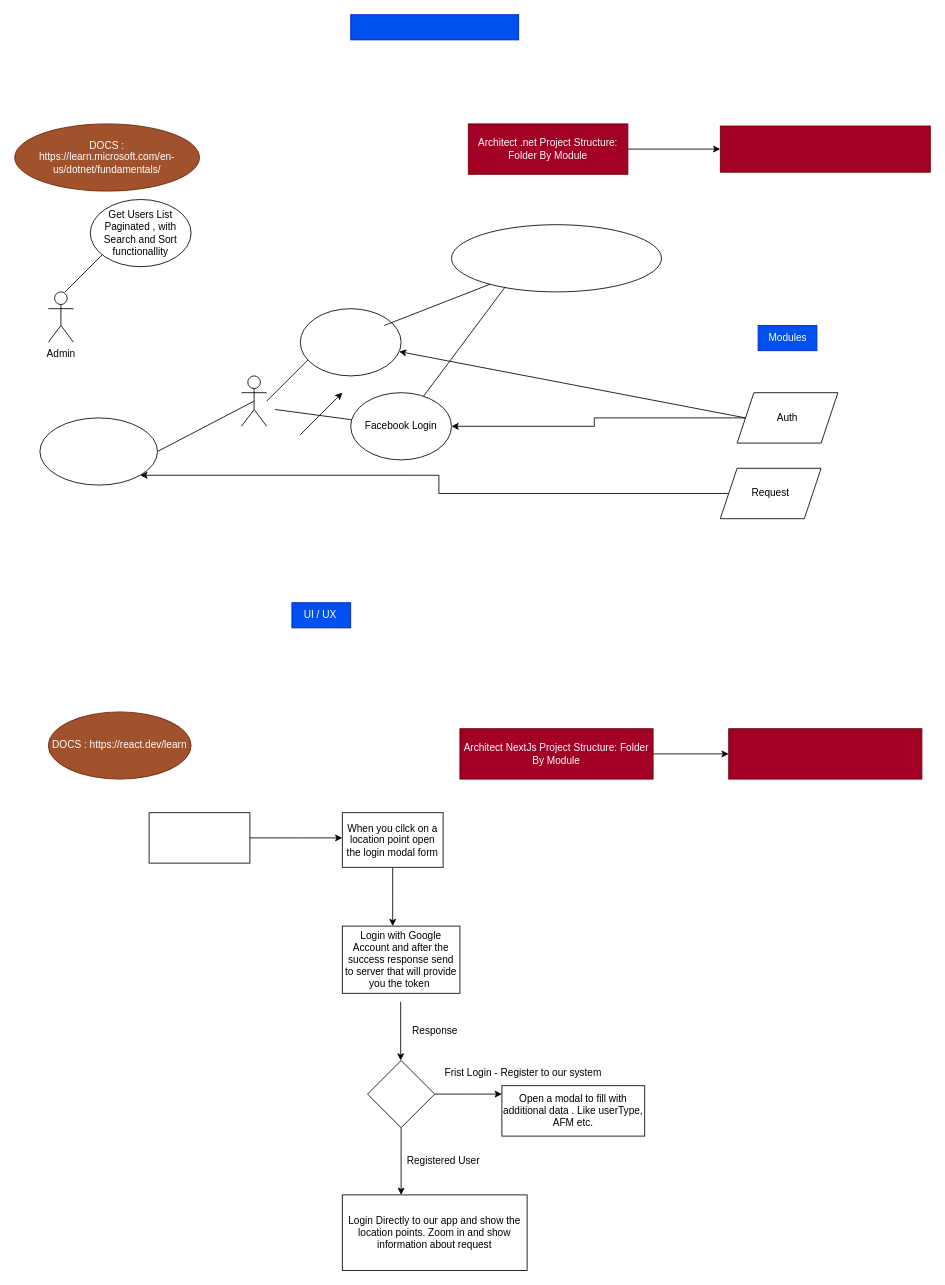
This 945x1285 diagram has some shape labels left out. The shapes that lost their labels are listed below. From the top down, each one's centre as x and y in pixels, then its label:
pixel 434 27: SERVER USE CASES DIAGRAM
pixel 824 148: https://github.com/iliophanis/CleanMinimalApi
pixel 556 258: Add Additional Informations for AppUser UserType : Employee or Farmer
pixel 350 342: Google login
pixel 254 400: USER
pixel 98 451: Get All Requests (x,y directions to get UI and present location points)
pixel 825 753: https://github.com/iliophanis/Reactivities-Web-App
pixel 199 837: Create a map from leaflet that includes location points of open job requests
